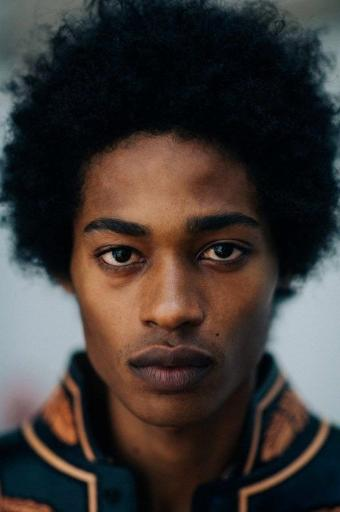left_eye: (196, 239, 255, 272)
left_lip_corner: (205, 352, 221, 376)
right_eye: (95, 245, 147, 277)
right_lip_corner: (126, 355, 140, 378)
